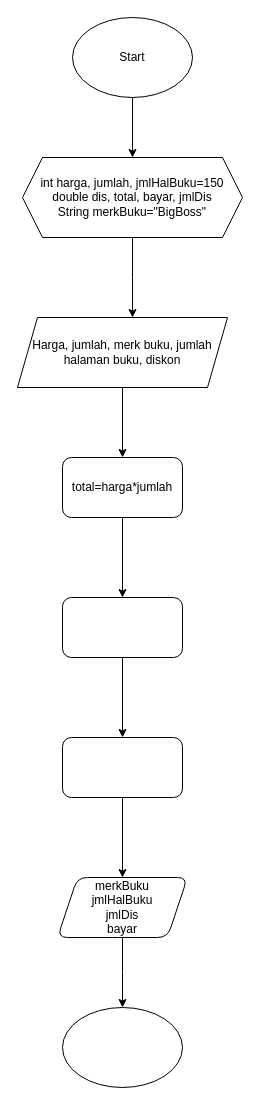
This 260x1105 diagram has some shape labels left out. Each missing label, with the centre of its shape:
"bayar=total-jmlDis" belongs at pixel 122 767.
"End" belongs at pixel 122 1047.
"jmlDis=total*dis" belongs at pixel 122 627.
